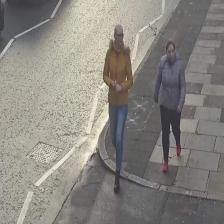person: (103, 25, 133, 190), (154, 40, 186, 172)
